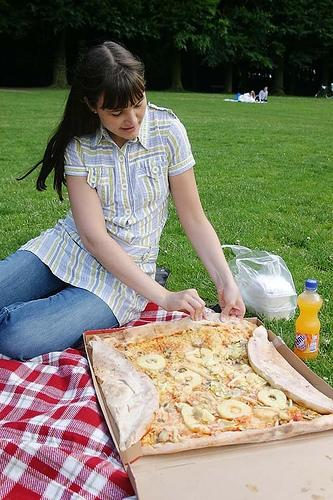pineapple: (181, 404, 210, 434), (216, 399, 252, 418), (257, 388, 287, 410), (174, 370, 202, 388), (184, 348, 213, 364), (136, 354, 165, 370), (194, 408, 216, 425)
